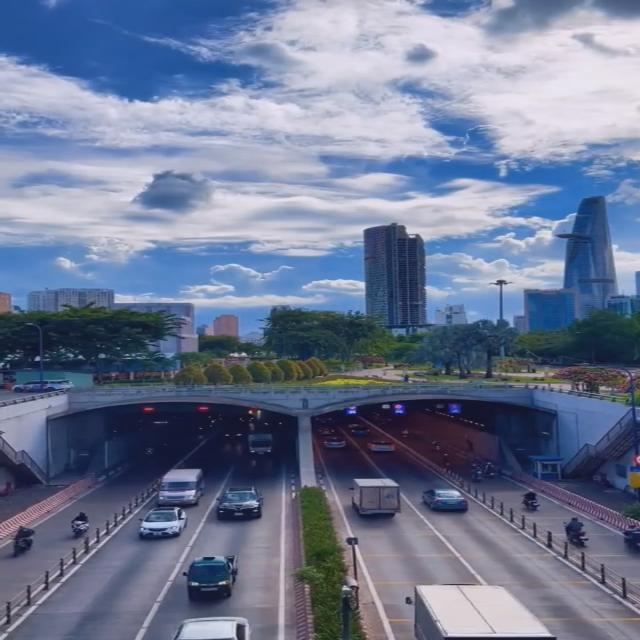bus: (156, 470, 203, 511)
car: (186, 555, 238, 599), (173, 615, 249, 640), (139, 506, 187, 537), (217, 486, 260, 520), (425, 488, 469, 513)
motorbike: (562, 517, 592, 548), (10, 524, 35, 557), (68, 512, 90, 537), (622, 524, 640, 554), (522, 488, 542, 514)
truck: (411, 582, 551, 640), (352, 477, 399, 517)
